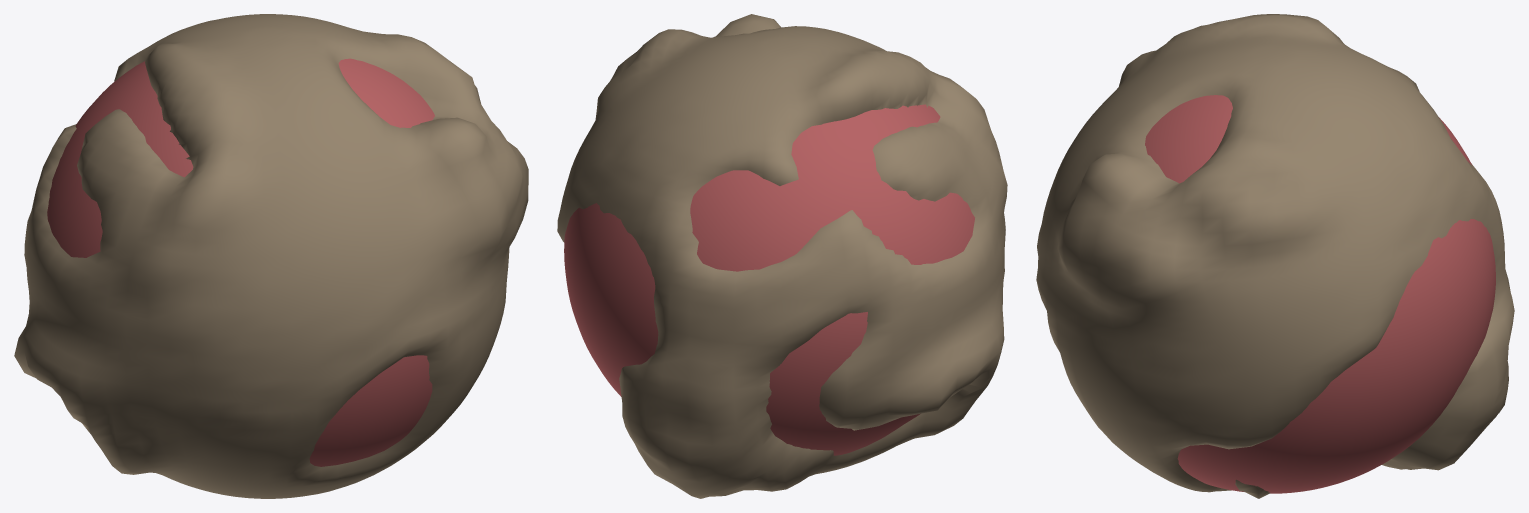
The model's file is world.fbx.
3 renders of one model, left to right at view 1: azimuth 30°, elevation 25°; view 2: azimuth 150°, elevation 25°; view 3: azimuth 270°, elevation 25°, orthographic. The views are drawn at different scales.
Parts seen in each view (by area): view 1: landScape, seaLevel; view 2: landScape, seaLevel; view 3: landScape, seaLevel.
Boxes of the visible parts, x1,y1,x2,y2 form: landScape: (14,14,528,498); seaLevel: (47,58,434,466); landScape: (557,14,1007,498); seaLevel: (564,104,974,455); landScape: (1036,14,1514,498); seaLevel: (1145,95,1495,493).
Bounding box in the file's own units: 33.78 × 32.57 × 33.06.
